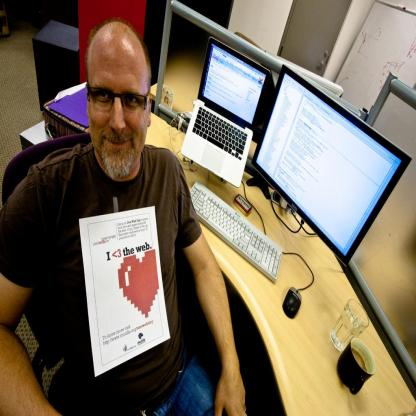board: (179, 36, 273, 195)
